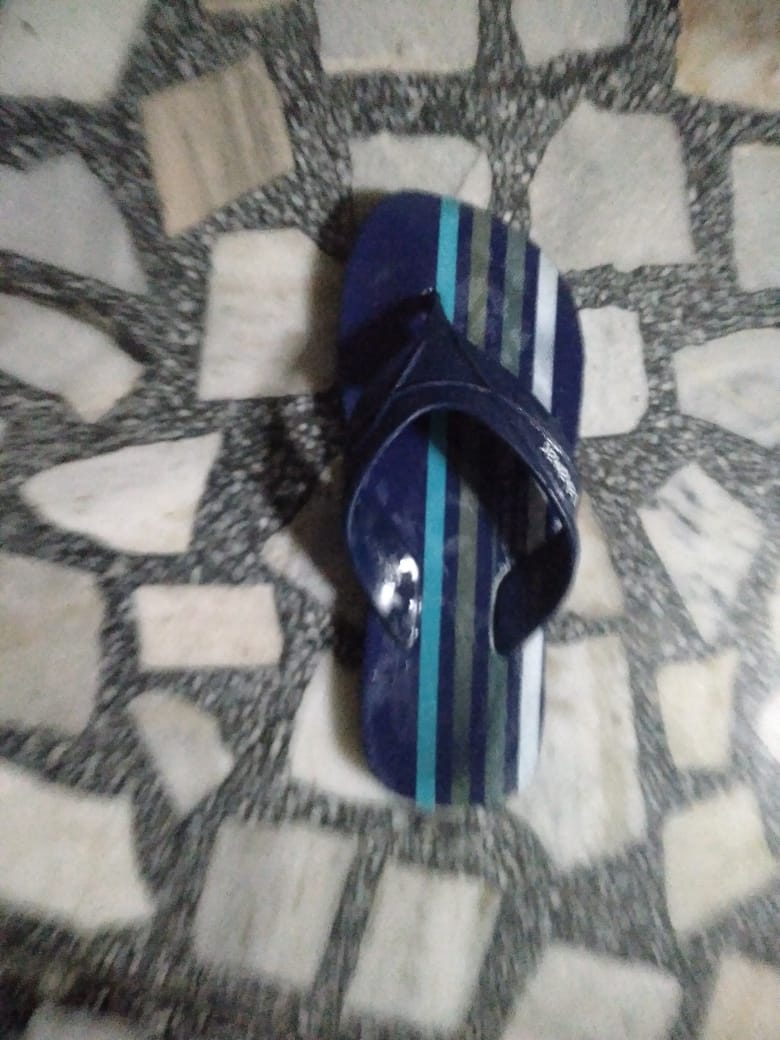Footwear: (303, 159, 600, 848)
